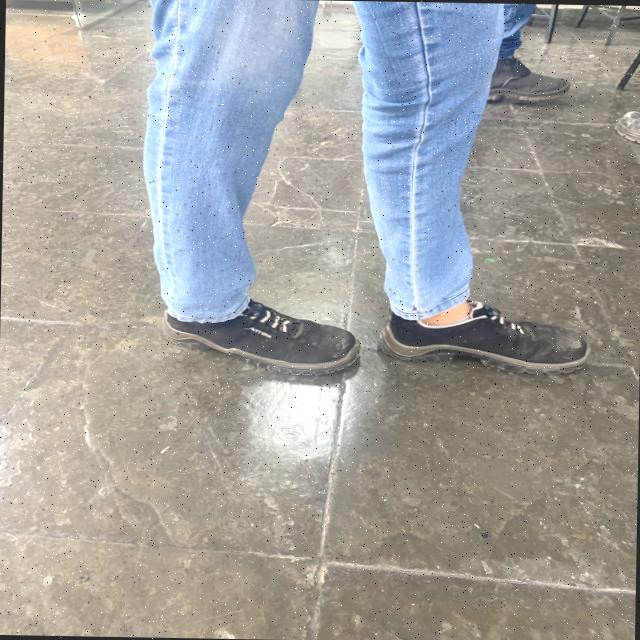BOTA: (373, 292, 593, 375), (167, 296, 376, 380), (471, 48, 573, 107), (616, 102, 640, 149)
